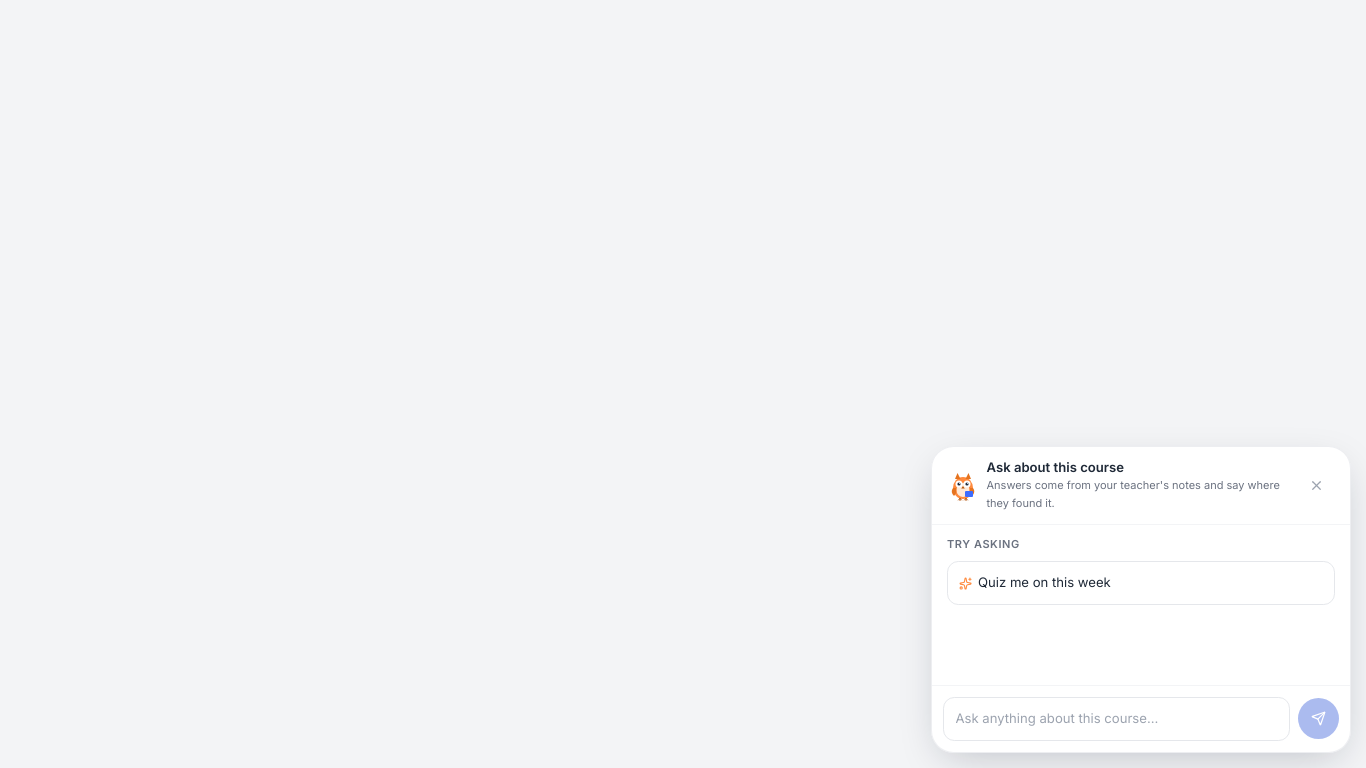
AITutorSheet › offers suggested questions and shows a cited, grounded answer
The image size is (1366, 768).
Click the button "Quiz me on this week".
click(1044, 582)  # box [947,561,1335,605]
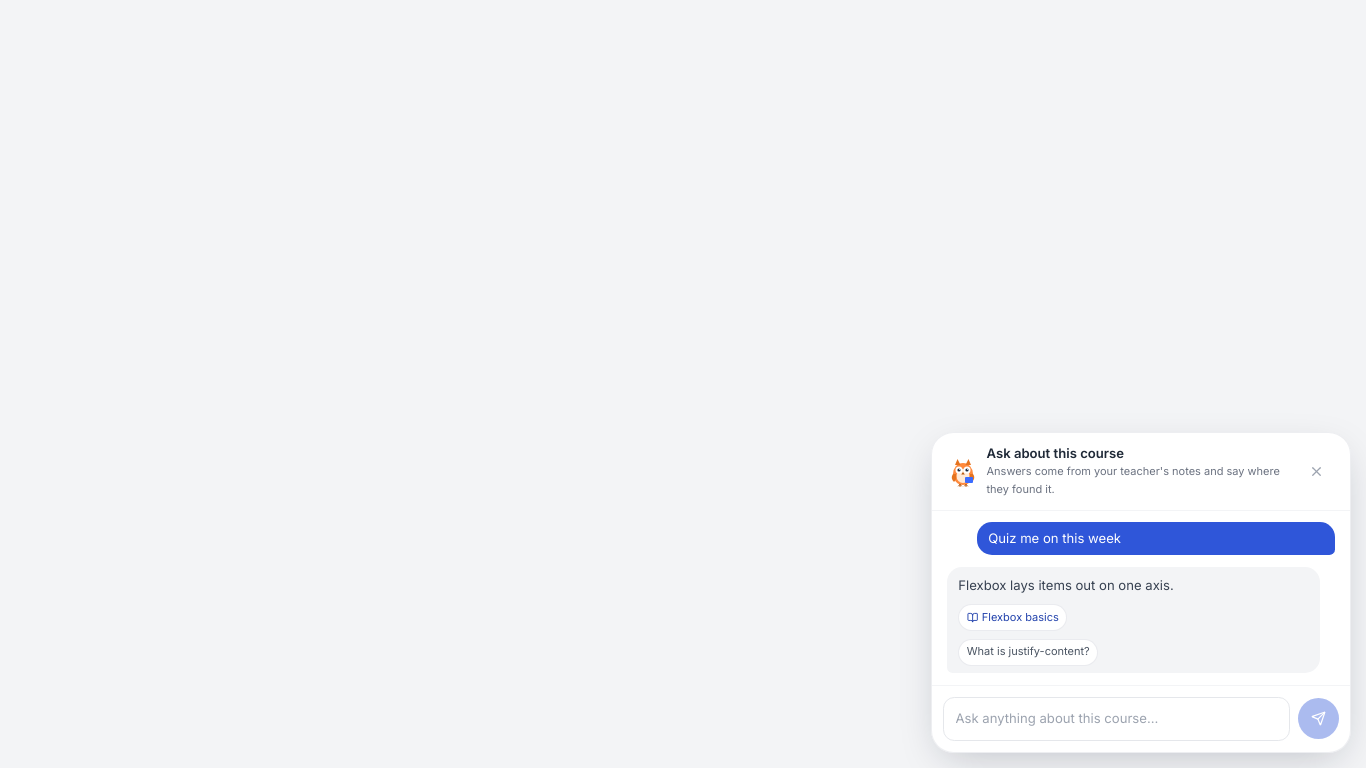
Expected: the text "Flexbox lays items out on one axis." is shown, [958,577,1174,593]
Expected: the button "Flexbox basics" is shown, [958,604,1067,631]
Expected: the button "What is justify-content?" is shown, [958,639,1098,666]
